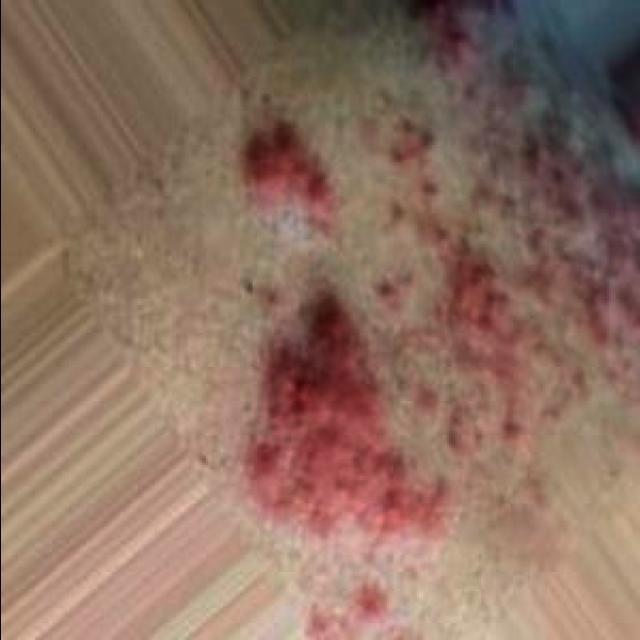Shingles: (230, 0, 639, 554)
